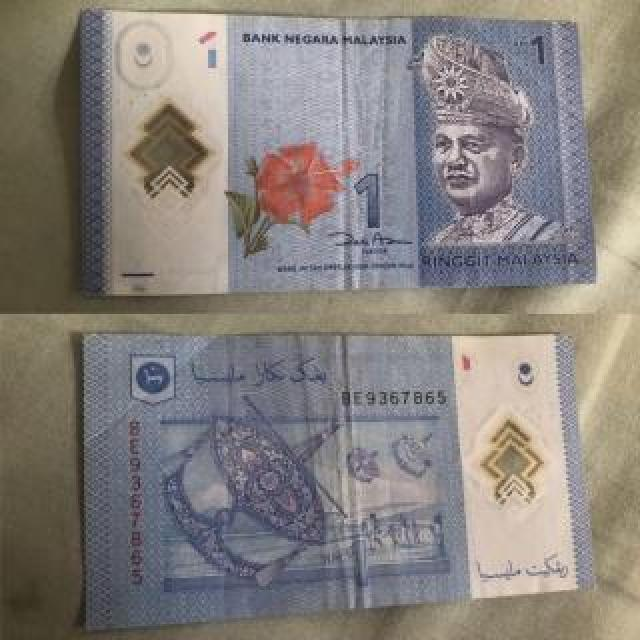1 Ringgit: (72, 4, 609, 304), (80, 328, 602, 631)
